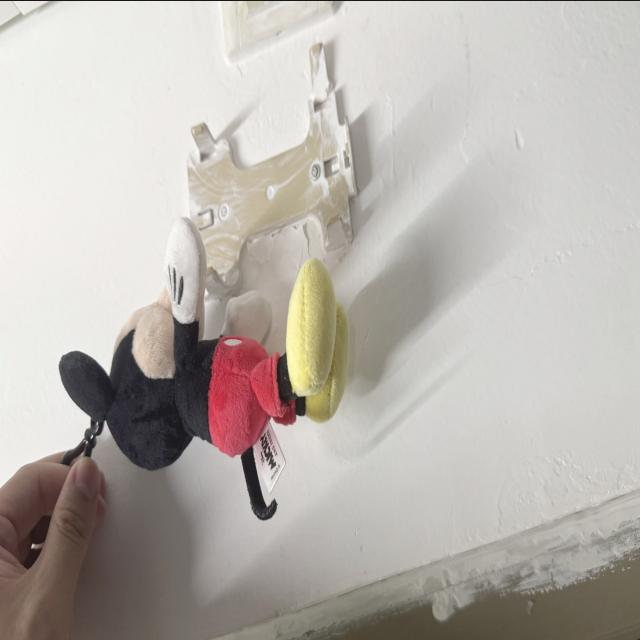mickey: (60, 217, 348, 517)
